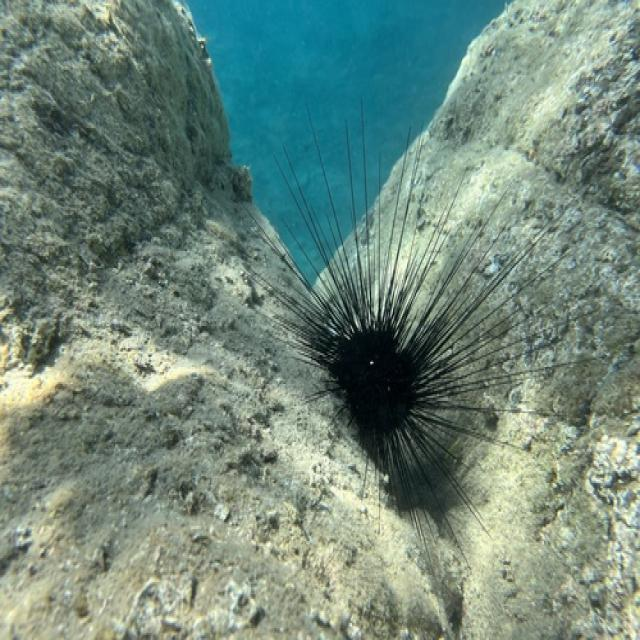Urchin: (228, 94, 600, 575)
